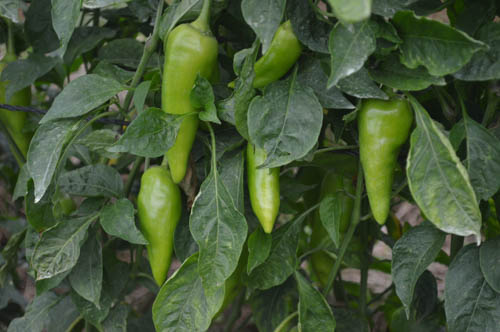ChiliPepper: (161, 26, 219, 184), (357, 103, 410, 227), (136, 168, 179, 286), (254, 24, 310, 91), (246, 146, 281, 234)
